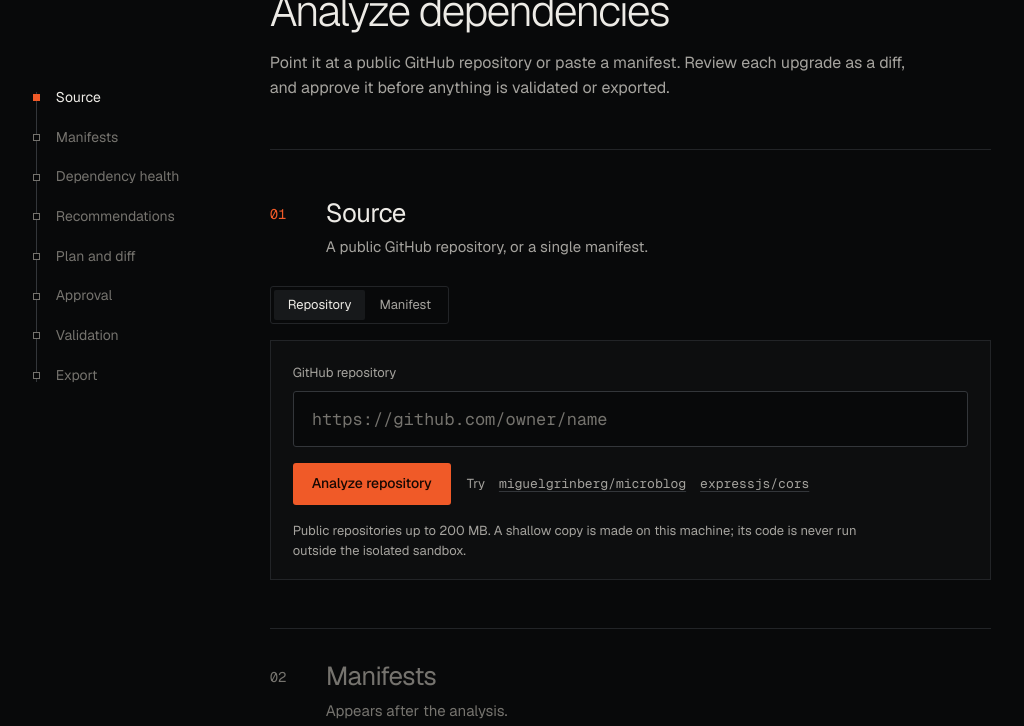
ManifestAnalyzer Component › generates recommendations from the server-held analysis and labels model output
What coordinates should you click on to do the following:
click the tab with test id "source-manifest"
I would click on:
 (405, 305)
Its box is 366,290 -> 445,320.
(page scrolled)
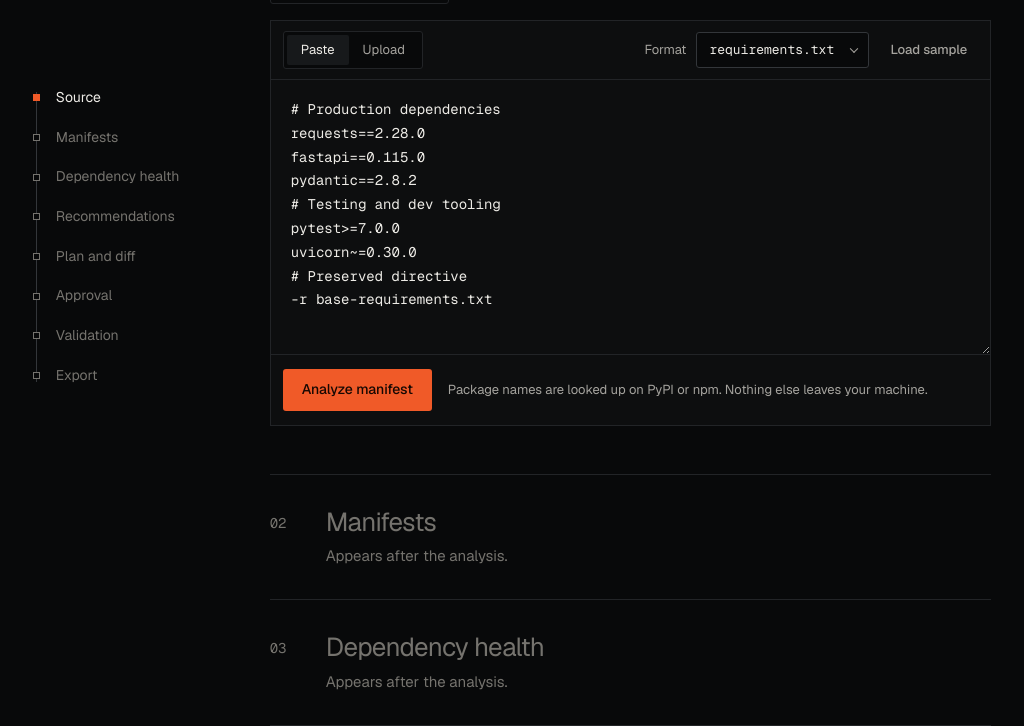
What coordinates should you click on to do the following:
click the button with test id "btn-analyze"
I would click on:
 (357, 390)
Its box is 283,369 -> 432,411.
(page scrolled)
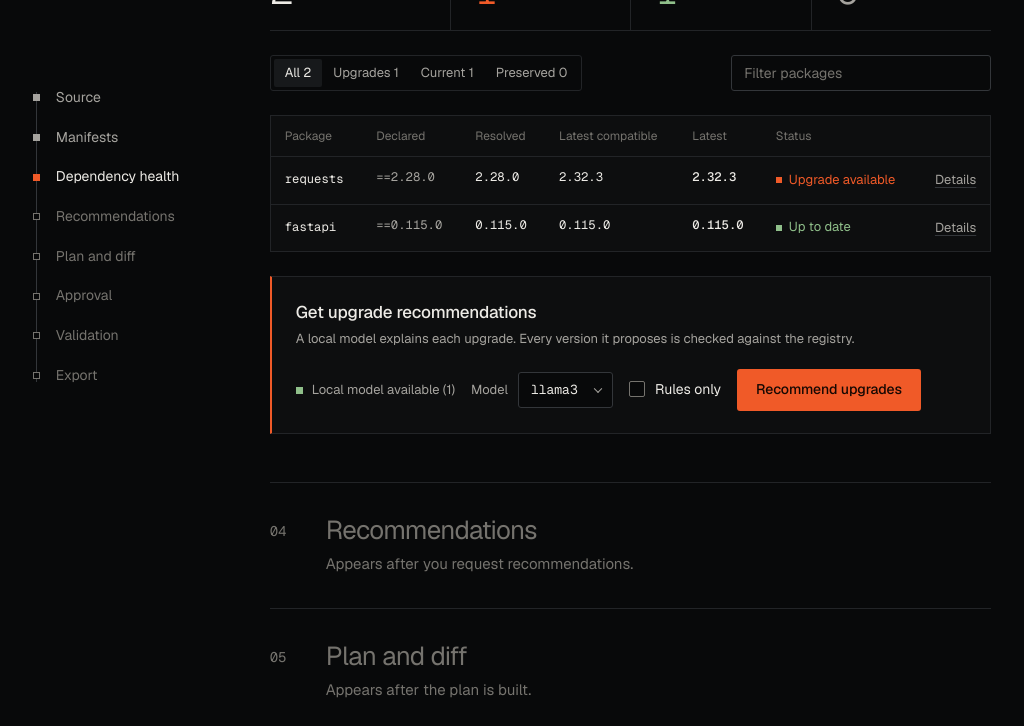
Result: the element with test id "ai-provider-status" shows "Local model available" at 312,381 -> 455,398
What coordinates should you click on to do the following:
click the button with test id "btn-generate-recommendations"
I would click on:
 (829, 390)
Its box is 737,369 -> 921,411.
(page scrolled)
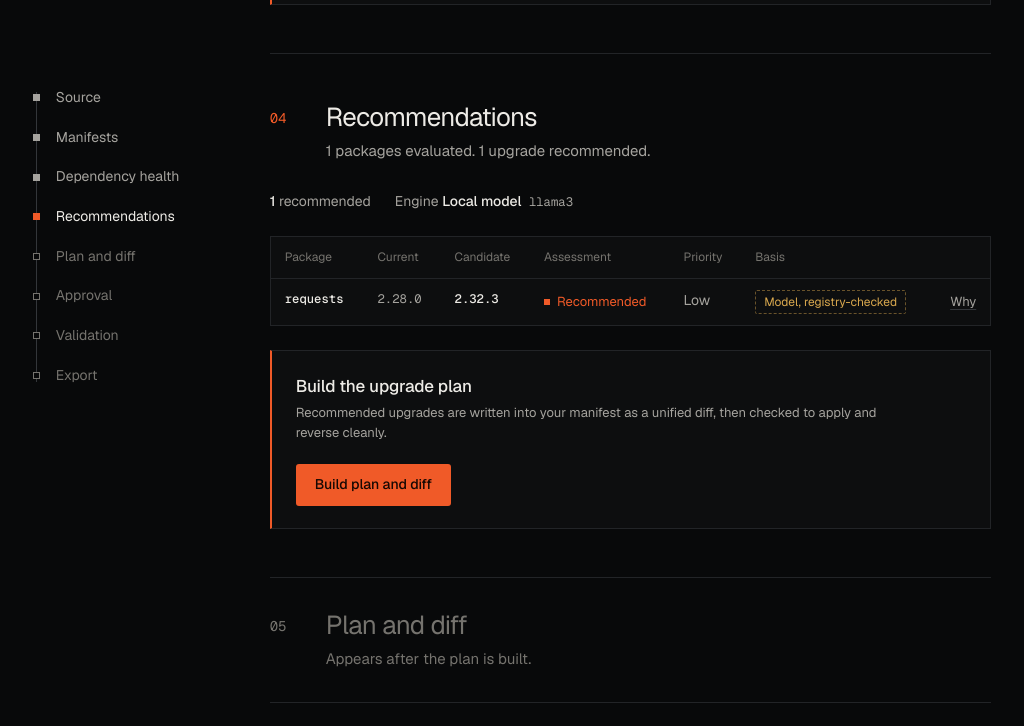
Result: the element with test id "recommendations-results" shows "1 recommended" at 270,191 -> 991,529
Result: the text "Model, registry-checked" is shown at 755,290 -> 906,314
Result: the text "Low" is shown at 670,278 -> 741,325
